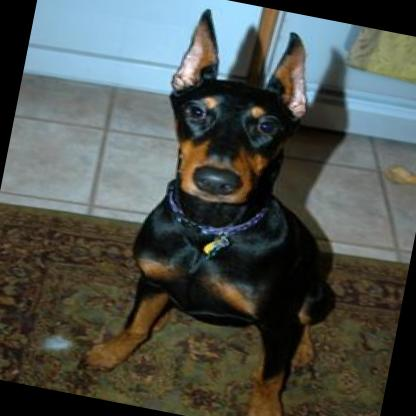Doberman: (66, 0, 393, 416)
